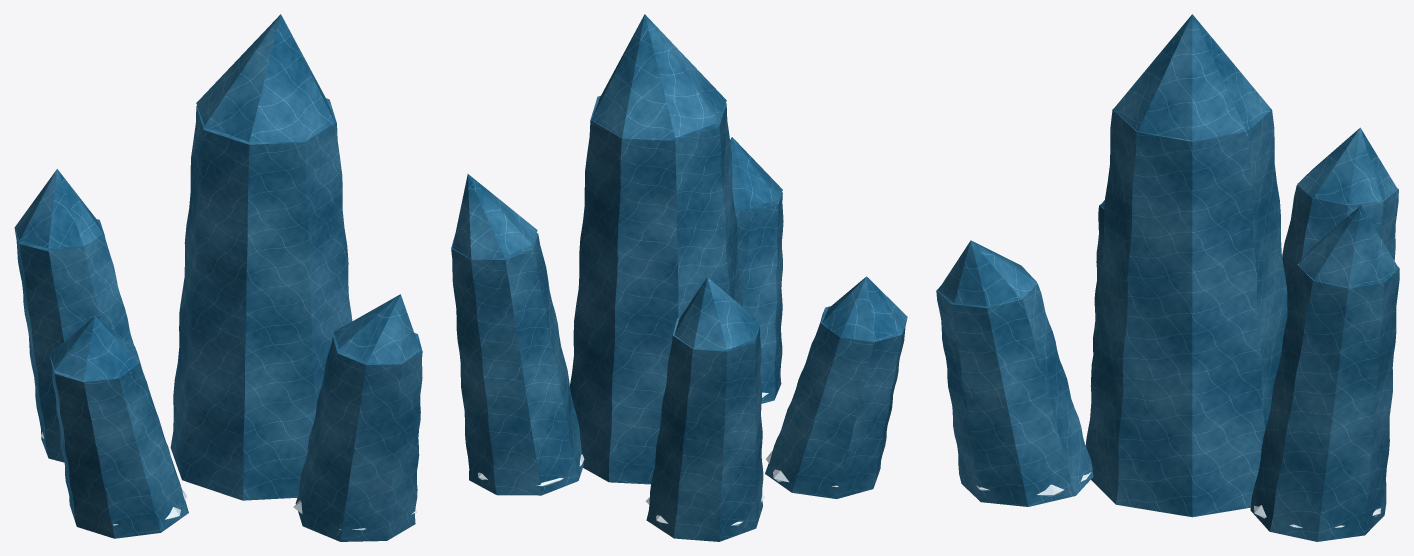
File: SecondRoom_BlueCrystal.fbx
The picture shows the model from 3 angles, left to right: view 1: azimuth 30°, elevation 25°; view 2: azimuth 150°, elevation 25°; view 3: azimuth 270°, elevation 25°; orthographic projection. The views are drawn at different scales.
Parts seen in each view (by area): view 1: WO_SecondRoom_BlueCrystal_LOD0; view 2: WO_SecondRoom_BlueCrystal_LOD0; view 3: WO_SecondRoom_BlueCrystal_LOD0.
Part boxes in pixels (box(x1,y1,x2,y2)): WO_SecondRoom_BlueCrystal_LOD0: box(14, 14, 422, 541); WO_SecondRoom_BlueCrystal_LOD0: box(451, 14, 907, 541); WO_SecondRoom_BlueCrystal_LOD0: box(936, 14, 1399, 541).
Size of what is drawn, in the model's own units: 5.15 by 6 by 5.33.
